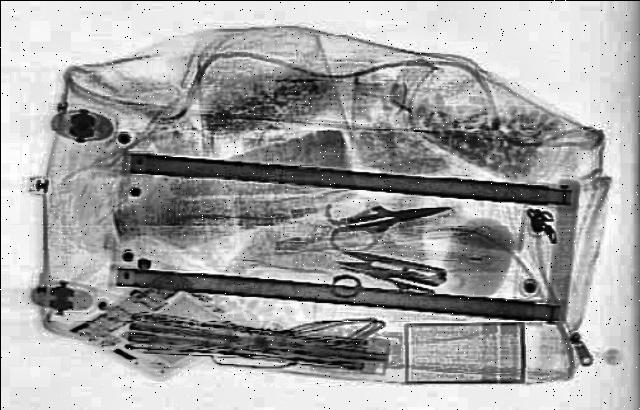Knife: (344, 194, 456, 234), (337, 256, 447, 296)
Scissors: (334, 246, 456, 286)
